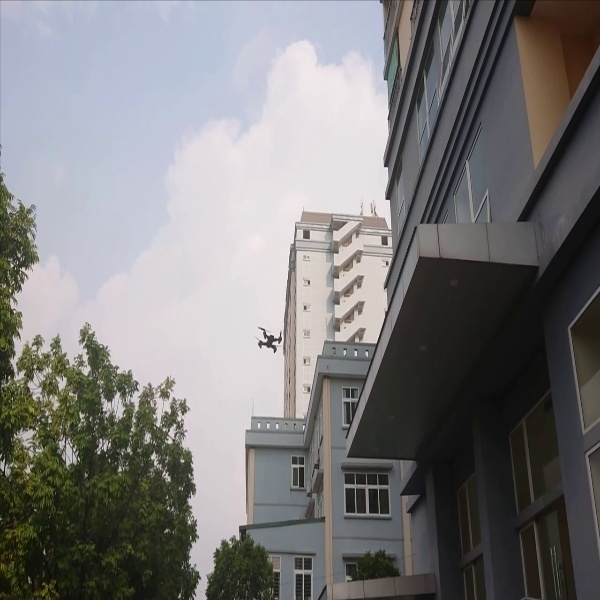drone: (250, 320, 290, 353)
